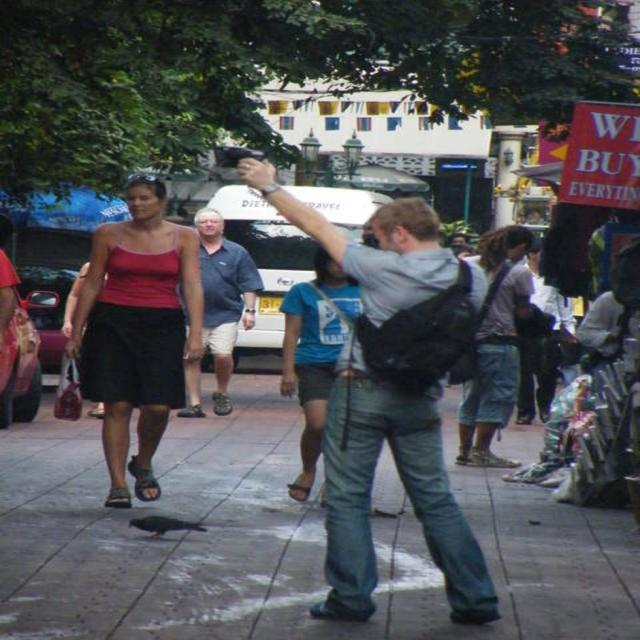nomask: (369, 222, 405, 257), (125, 184, 156, 218), (197, 212, 222, 236), (326, 252, 348, 278), (503, 239, 528, 257), (452, 238, 464, 249)
